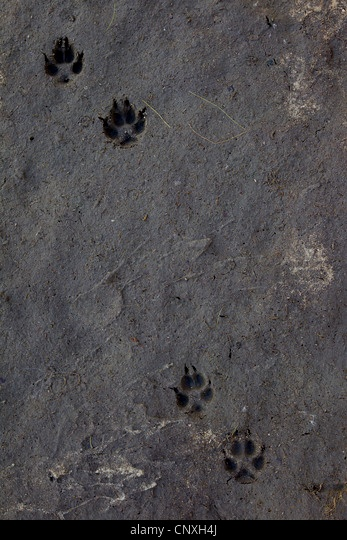fox: (82, 94, 162, 160), (207, 424, 277, 495), (157, 358, 218, 425), (34, 30, 92, 87)
